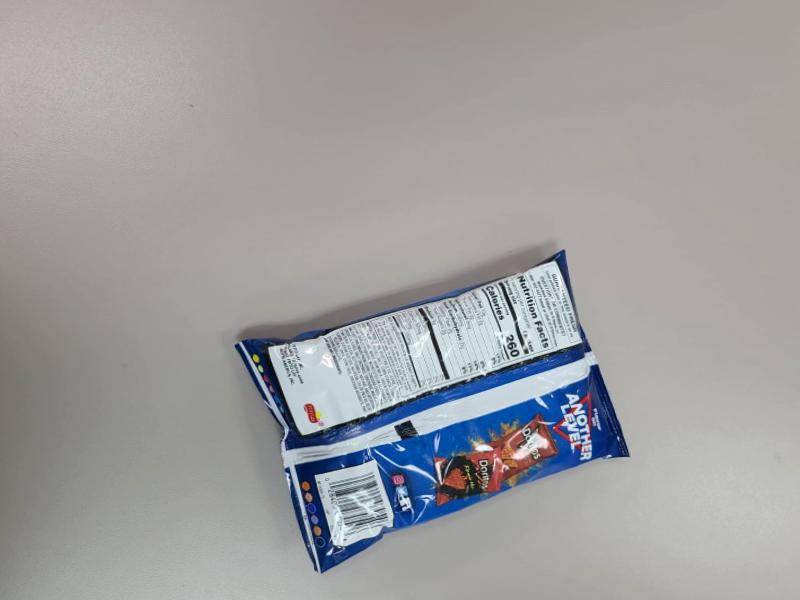doritos: (223, 249, 646, 595)
